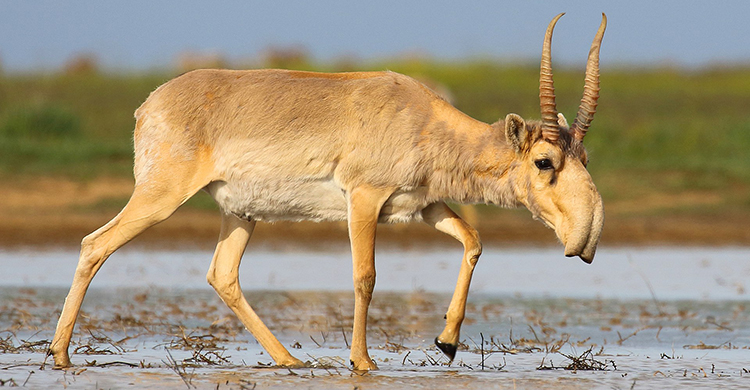saiga: (50, 10, 609, 379)
